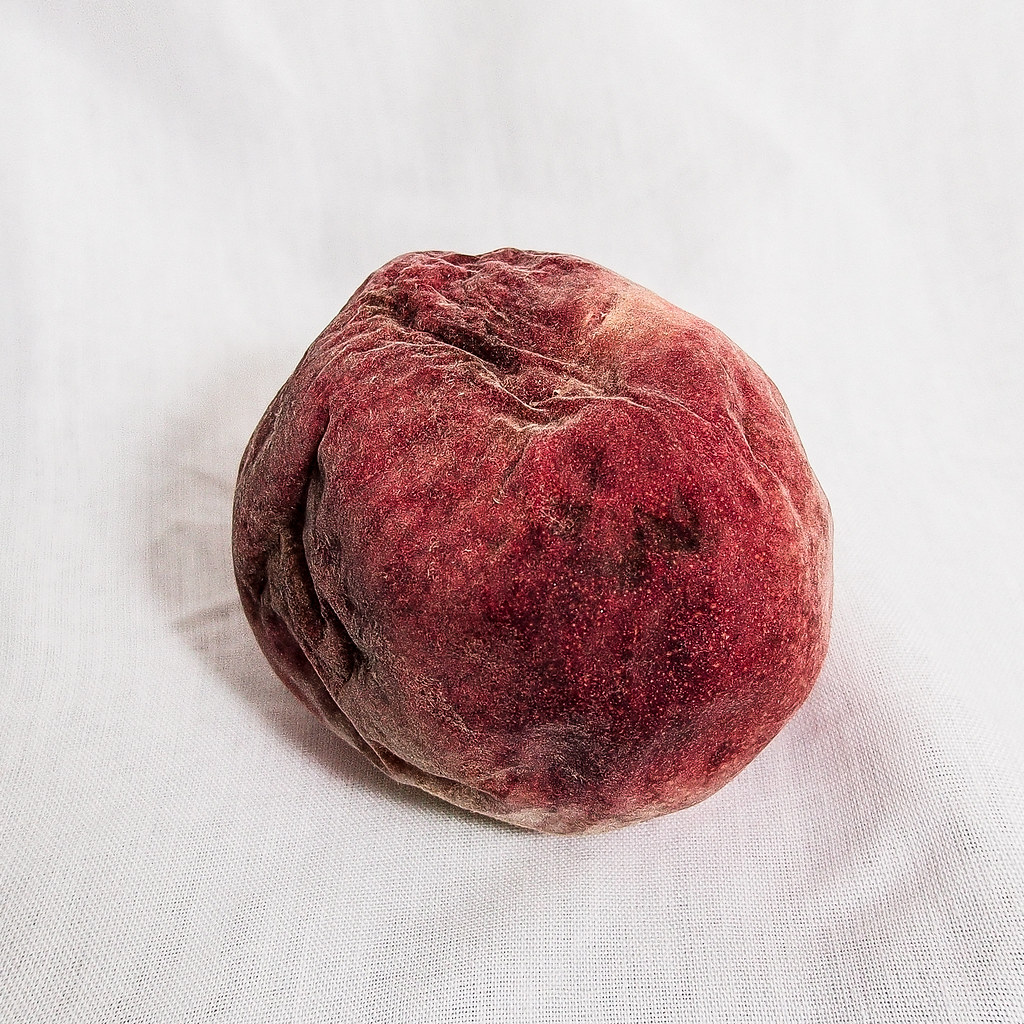damaged_peach: (236, 249, 831, 818)
